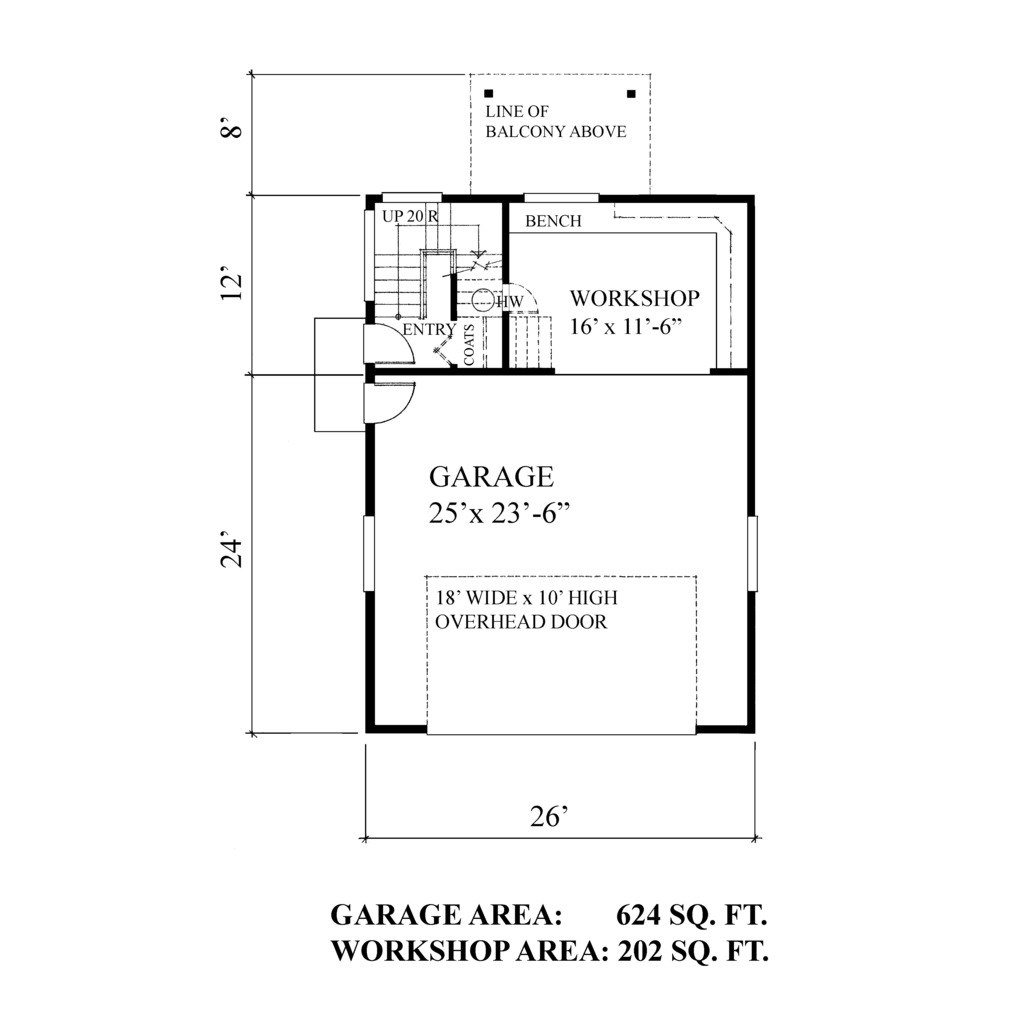door: (356, 381, 422, 436), (363, 322, 420, 371)
stairs: (372, 202, 507, 322)
window: (512, 182, 609, 206), (358, 508, 382, 603), (358, 205, 379, 303), (744, 509, 760, 595)
